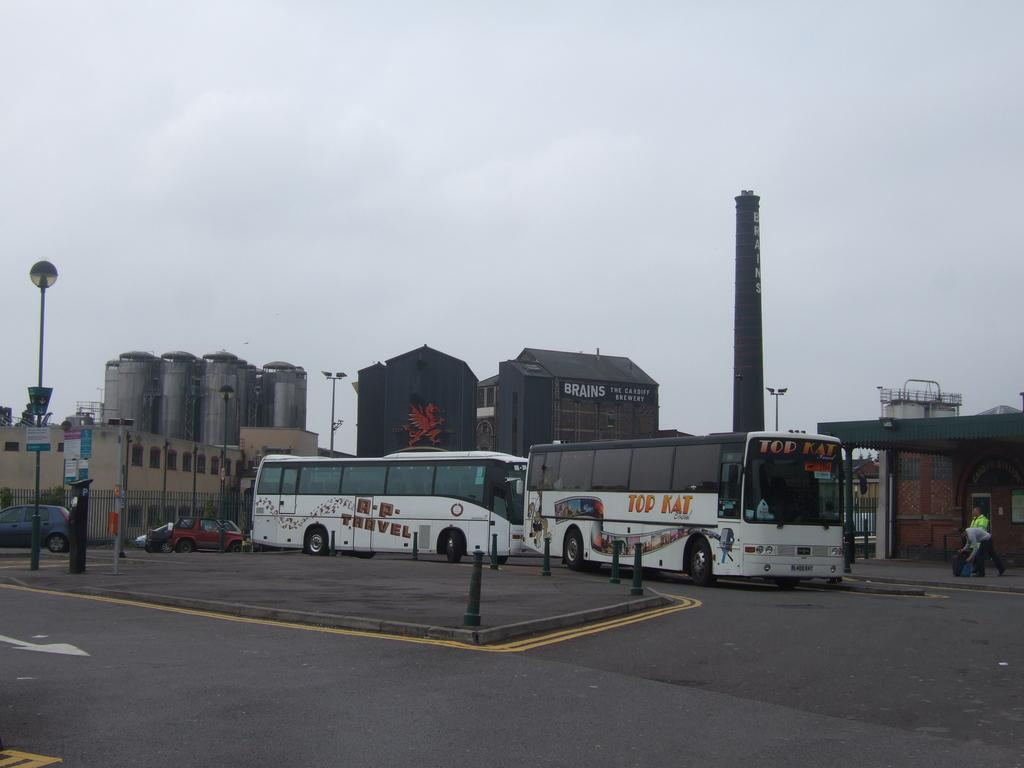vehicle: (524, 428, 844, 589), (252, 450, 531, 564), (0, 503, 71, 553), (166, 513, 243, 552)
